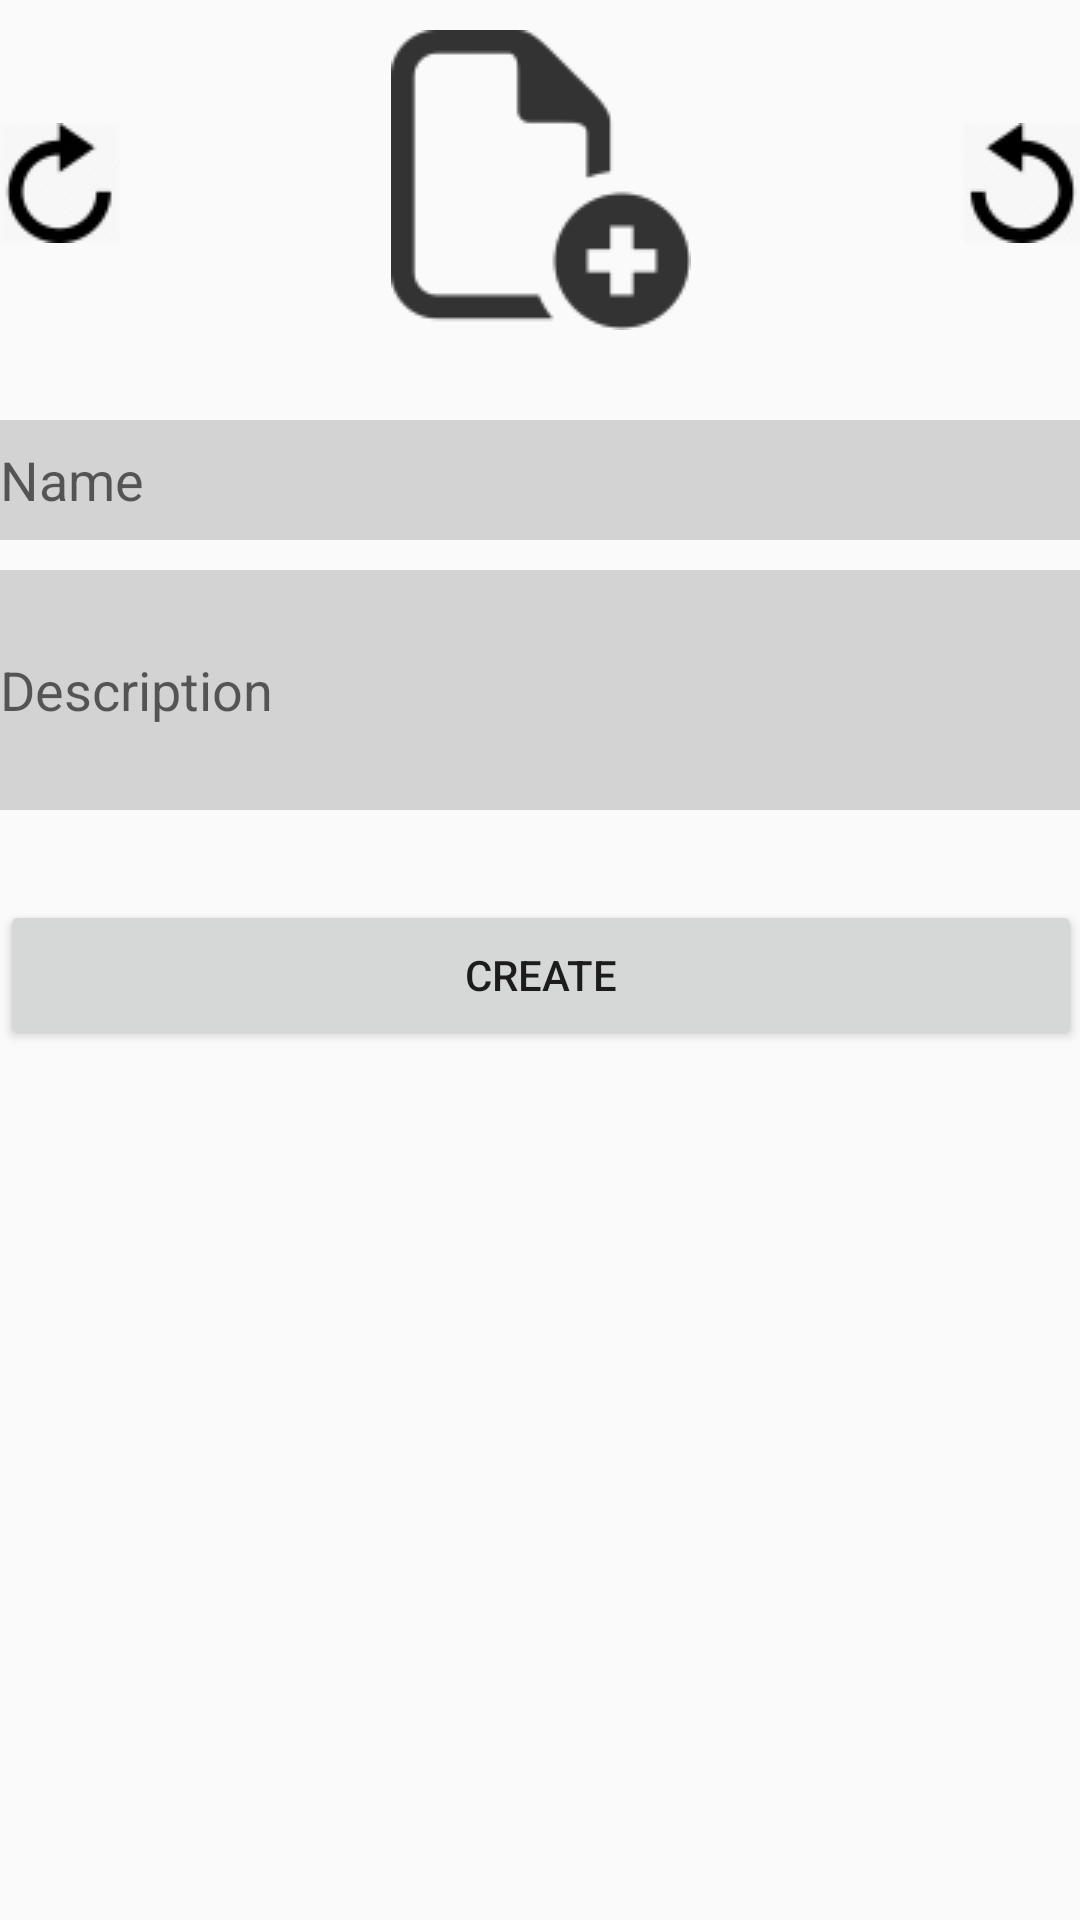

Screen size 1080px x 1920px. Icon name, then its center in pixels as point (x, y):
add file: point (541, 180)
rotate left: point (1022, 183)
rotate right: point (59, 183)
